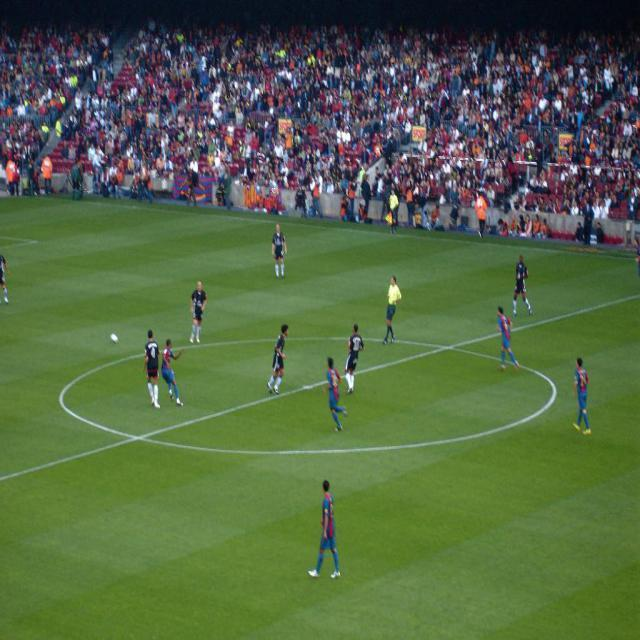ball: (109, 331, 119, 346)
